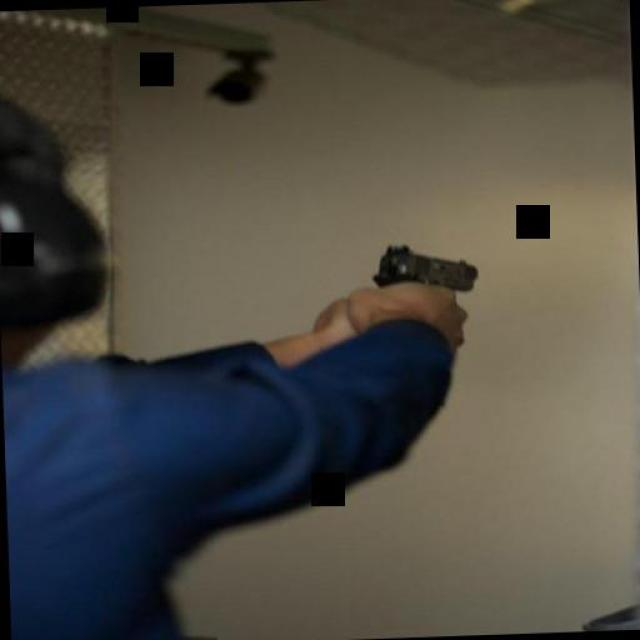gun: (360, 232, 485, 306)
